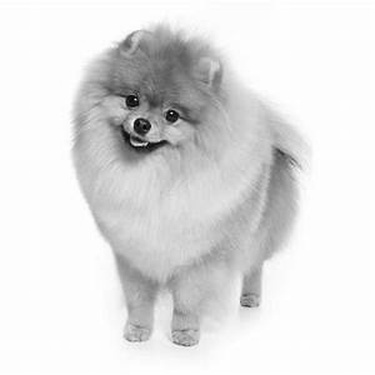dog: (55, 10, 317, 352)
